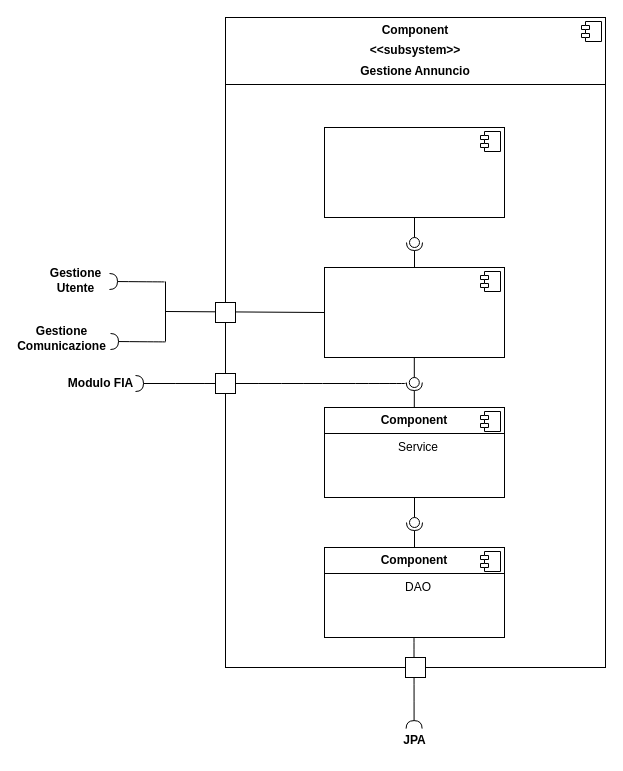
Some shapes in this 623 by 771 pixel diagram are drawn without their labels. Each missing label, with the centre of its shape:
Component Control: the point at 414,312
Component GUI: the point at 414,172
